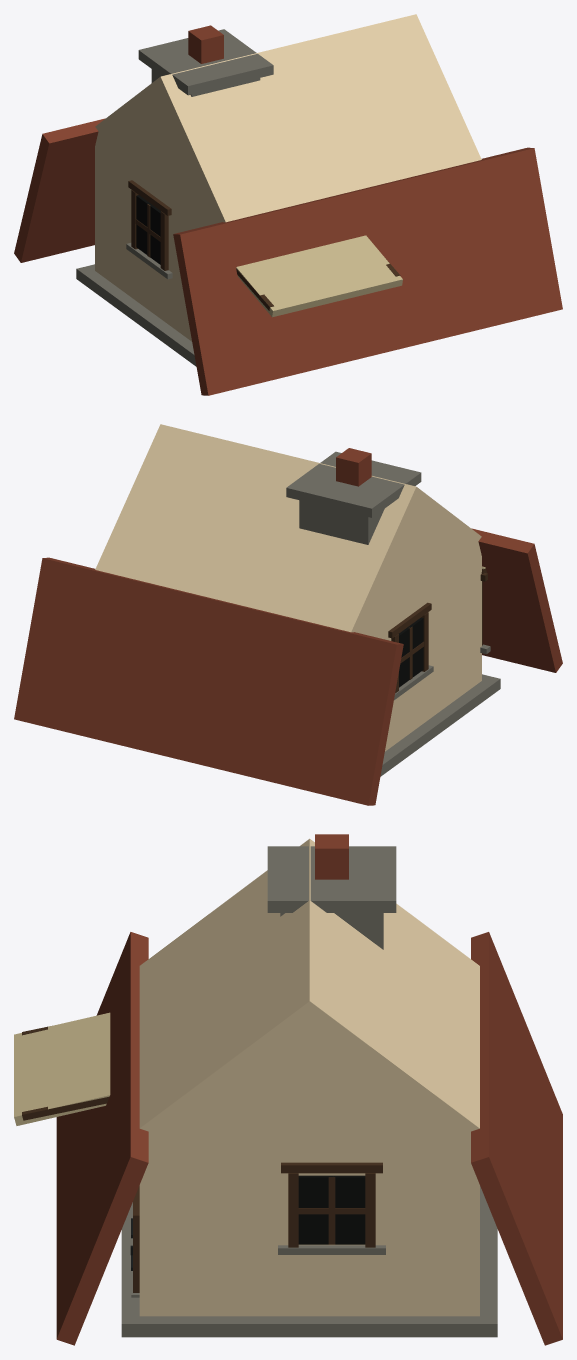
Rendered from house_bakery.obj.
3 renders of one model, top to bottom at view 1: azimuth 30°, elevation 25°; view 2: azimuth 150°, elevation 25°; view 3: azimuth 270°, elevation 25°, orthographic. The views are drawn at different scales.
Parts seen in each view (by area): view 1: house_bakery roof slope, house_bakery walls, house_bakery awning, house_bakery oven chimney cap, house_bakery footing, house_bakery oven chimney pot, house_bakery side light recess, house_bakery side light jamb; view 2: house_bakery roof slope, house_bakery walls, house_bakery oven chimney cap, house_bakery footing, house_bakery oven chimney stack, house_bakery oven chimney pot, house_bakery side light recess; view 3: house_bakery walls, house_bakery roof slope, house_bakery footing, house_bakery awning, house_bakery oven chimney cap, house_bakery side light recess, house_bakery side light jamb, house_bakery oven chimney pot, house_bakery side light lintel, house_bakery side light sill, house_bakery oven chimney stack, house_bakery awning arm.
Boxes of the visible parts, bbox=[...] form: house_bakery roof slope: bbox=[14, 118, 562, 395]; house_bakery walls: bbox=[95, 14, 481, 341]; house_bakery awning: bbox=[236, 235, 402, 317]; house_bakery oven chimney cap: bbox=[138, 29, 273, 95]; house_bakery footing: bbox=[76, 264, 196, 366]; house_bakery oven chimney pot: bbox=[188, 25, 223, 63]; house_bakery side light recess: bbox=[136, 195, 160, 264]; house_bakery side light jamb: bbox=[131, 190, 168, 270]; house_bakery roof slope: bbox=[14, 528, 562, 805]; house_bakery walls: bbox=[95, 424, 481, 751]; house_bakery oven chimney cap: bbox=[286, 451, 421, 517]; house_bakery footing: bbox=[380, 674, 500, 776]; house_bakery oven chimney stack: bbox=[299, 500, 384, 544]; house_bakery oven chimney pot: bbox=[336, 448, 371, 486]; house_bakery side light recess: bbox=[399, 617, 423, 687]; house_bakery walls: bbox=[139, 838, 479, 1316]; house_bakery roof slope: bbox=[56, 932, 562, 1345]; house_bakery footing: bbox=[121, 1186, 497, 1337]; house_bakery awning: bbox=[14, 1012, 110, 1125]; house_bakery oven chimney cap: bbox=[267, 846, 396, 912]; house_bakery side light recess: bbox=[298, 1175, 365, 1244]; house_bakery side light jamb: bbox=[288, 1173, 375, 1247]; house_bakery oven chimney pot: bbox=[315, 834, 348, 879]; house_bakery side light lintel: bbox=[281, 1162, 382, 1173]; house_bakery side light sill: bbox=[278, 1245, 385, 1254]; house_bakery oven chimney stack: bbox=[280, 913, 383, 949]; house_bakery awning arm: bbox=[22, 1026, 109, 1120].
Size of the model in its own units: 720 by 537 by 742.
